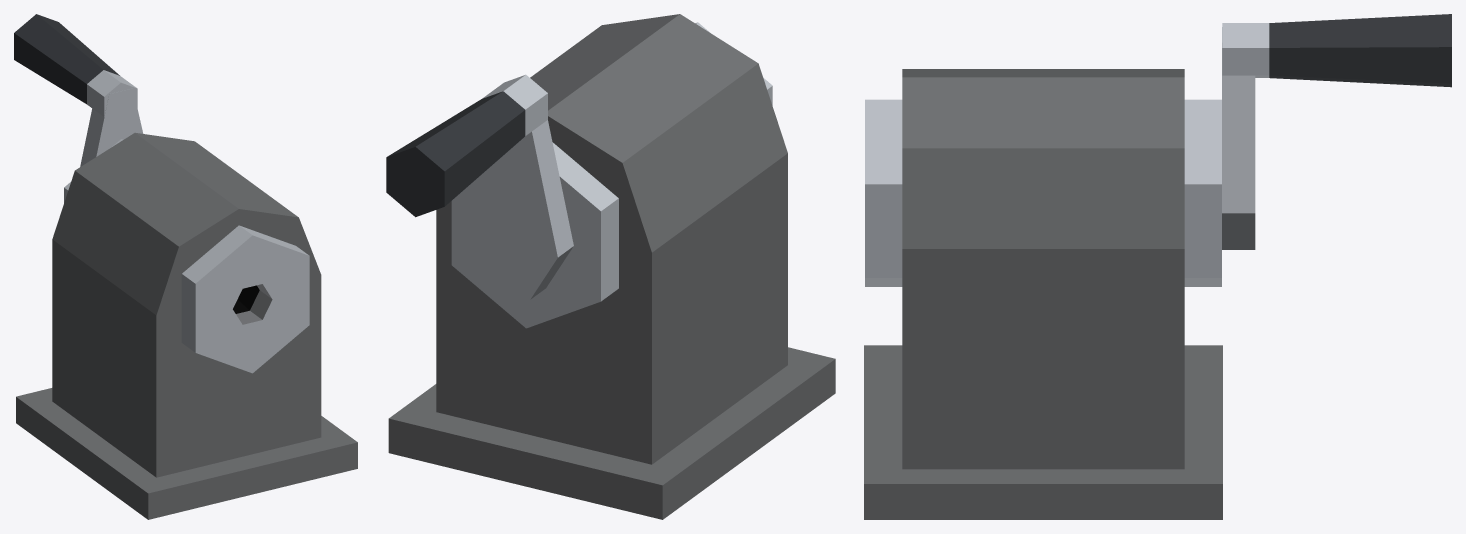
Rendered from SM_Prop_Pencil_Sharpener_02.glb.
The picture shows the model from 3 angles, left to right: view 1: azimuth 30°, elevation 25°; view 2: azimuth 150°, elevation 25°; view 3: azimuth 270°, elevation 25°; orthographic projection. The views are drawn at different scales.
Parts seen in each view (by area): view 1: SM_Prop_Pencil_Sharpener_02; view 2: SM_Prop_Pencil_Sharpener_02; view 3: SM_Prop_Pencil_Sharpener_02.
Part boxes in pixels (box(x1,y1,x2,y2)): SM_Prop_Pencil_Sharpener_02: box(14, 14, 357, 519); SM_Prop_Pencil_Sharpener_02: box(386, 14, 835, 519); SM_Prop_Pencil_Sharpener_02: box(864, 14, 1451, 519).
Size of the model in its own units: 0.1163 by 0.1705 by 0.2081.
1 material, 1 textured.
